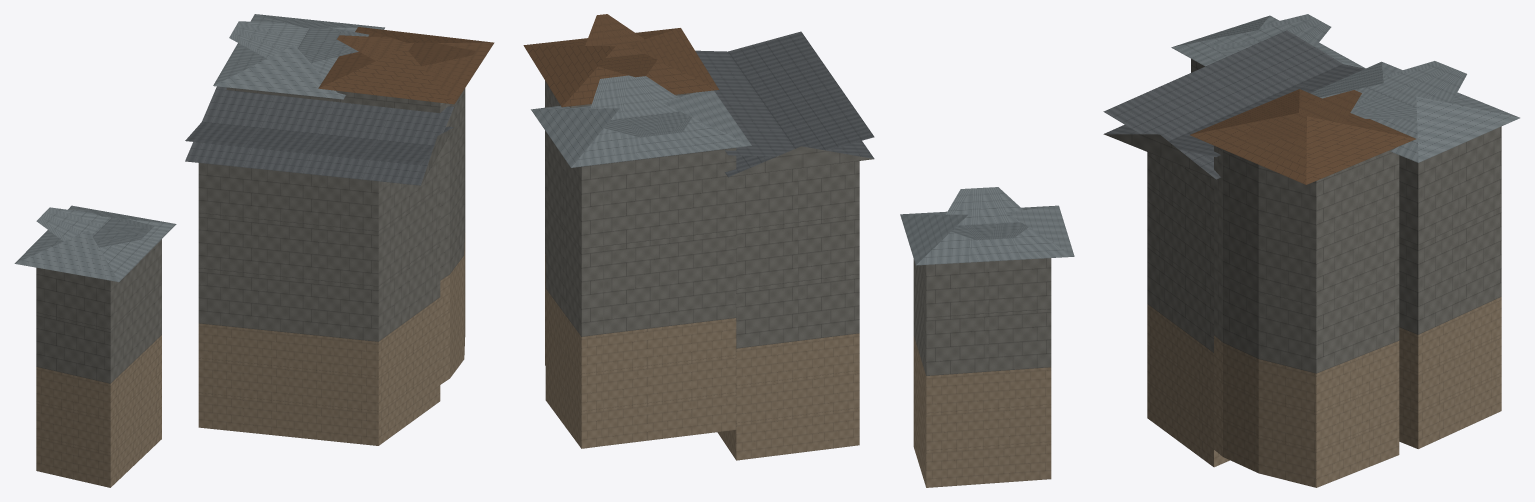
Rendered from bld_c23_-49_528.gltf.
The picture shows the model from 3 angles, left to right: view 1: azimuth 30°, elevation 25°; view 2: azimuth 150°, elevation 25°; view 3: azimuth 270°, elevation 25°; orthographic projection. The views are drawn at different scales.
Visible parts, largest first — view 1: bld_c23_-49_528; view 2: bld_c23_-49_528; view 3: bld_c23_-49_528.
Part boxes in pixels (x1=…): bld_c23_-49_528: x1=14, y1=14, x2=494, y2=487; bld_c23_-49_528: x1=523, y1=14, x2=1074, y2=487; bld_c23_-49_528: x1=1103, y1=14, x2=1519, y2=487.
Bounding box in the file's own units: 25.45 × 15.9 × 16.87.
6 materials, 6 textured.
